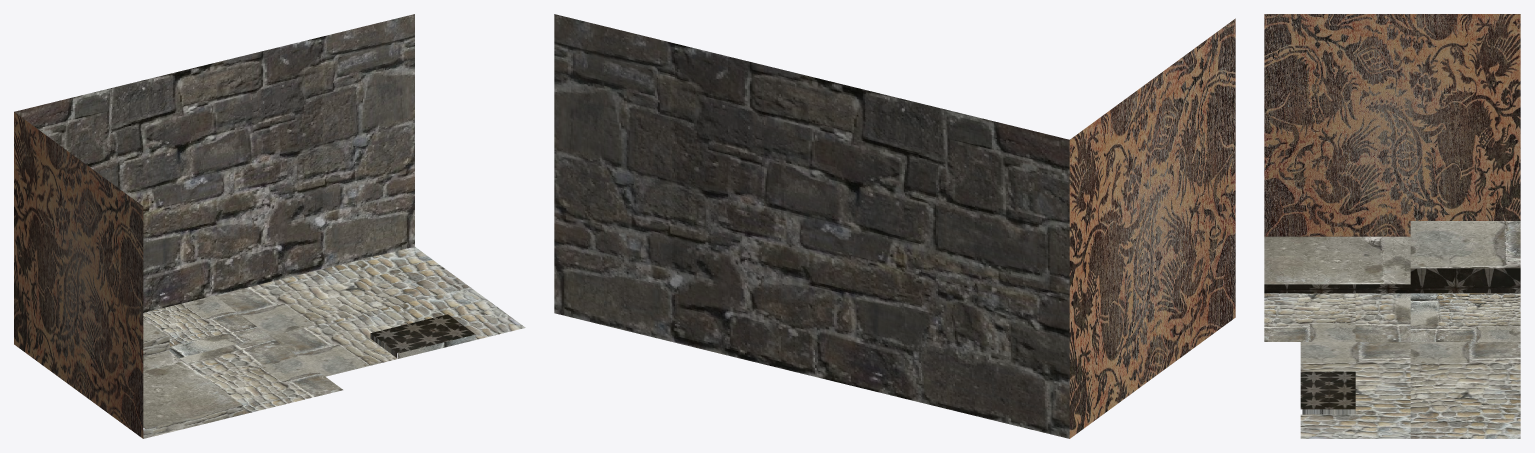
The model's file is house4_inside.fbx.
3 renders of one model, left to right at view 1: azimuth 30°, elevation 25°; view 2: azimuth 150°, elevation 25°; view 3: azimuth 270°, elevation 25°, orthographic. The views are drawn at different scales.
Parts seen in each view (by area): view 1: Plane; view 2: Plane; view 3: Plane.
Part boxes in pixels (x1,y1,x2,y2): Plane: (14, 14, 525, 438); Plane: (554, 14, 1235, 438); Plane: (1264, 14, 1520, 438).
Bounding box in the file's own units: 1269 × 704 × 708.
